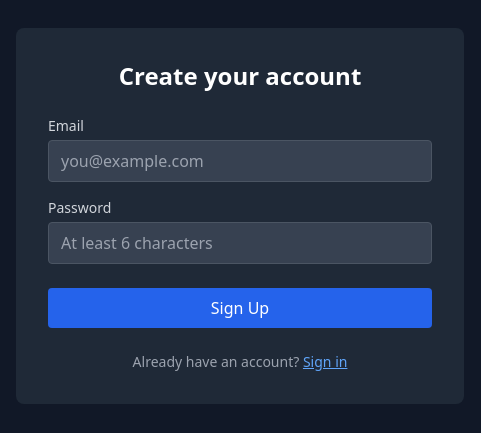
it: SignUpPage › displays email validation error for invalid email
The image size is (481, 433).
Type "invalid" into the field labelled "Email" at (240, 161), box x1=48 y1=140 x2=432 y2=182
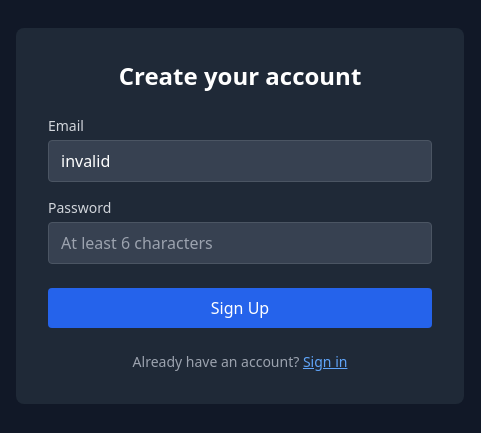
Type "validpass" into the password field labelled "Password" at (240, 243), box x1=48 y1=222 x2=432 y2=264
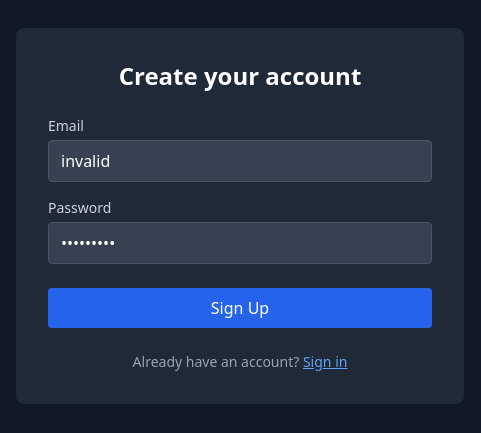
Click the button "Sign Up" at (240, 308), box x1=48 y1=288 x2=432 y2=328
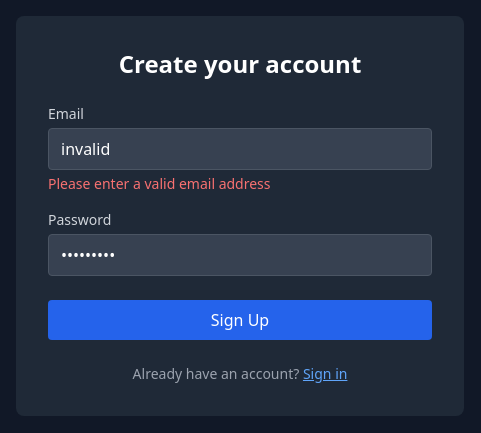
Check: the text "Please enter a valid email address" is shown, box x1=48 y1=174 x2=270 y2=193
